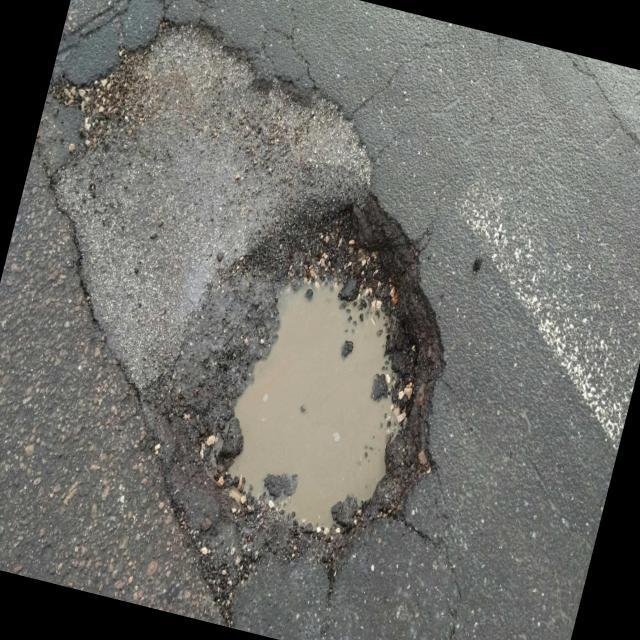Pothole: (174, 175, 454, 589)
